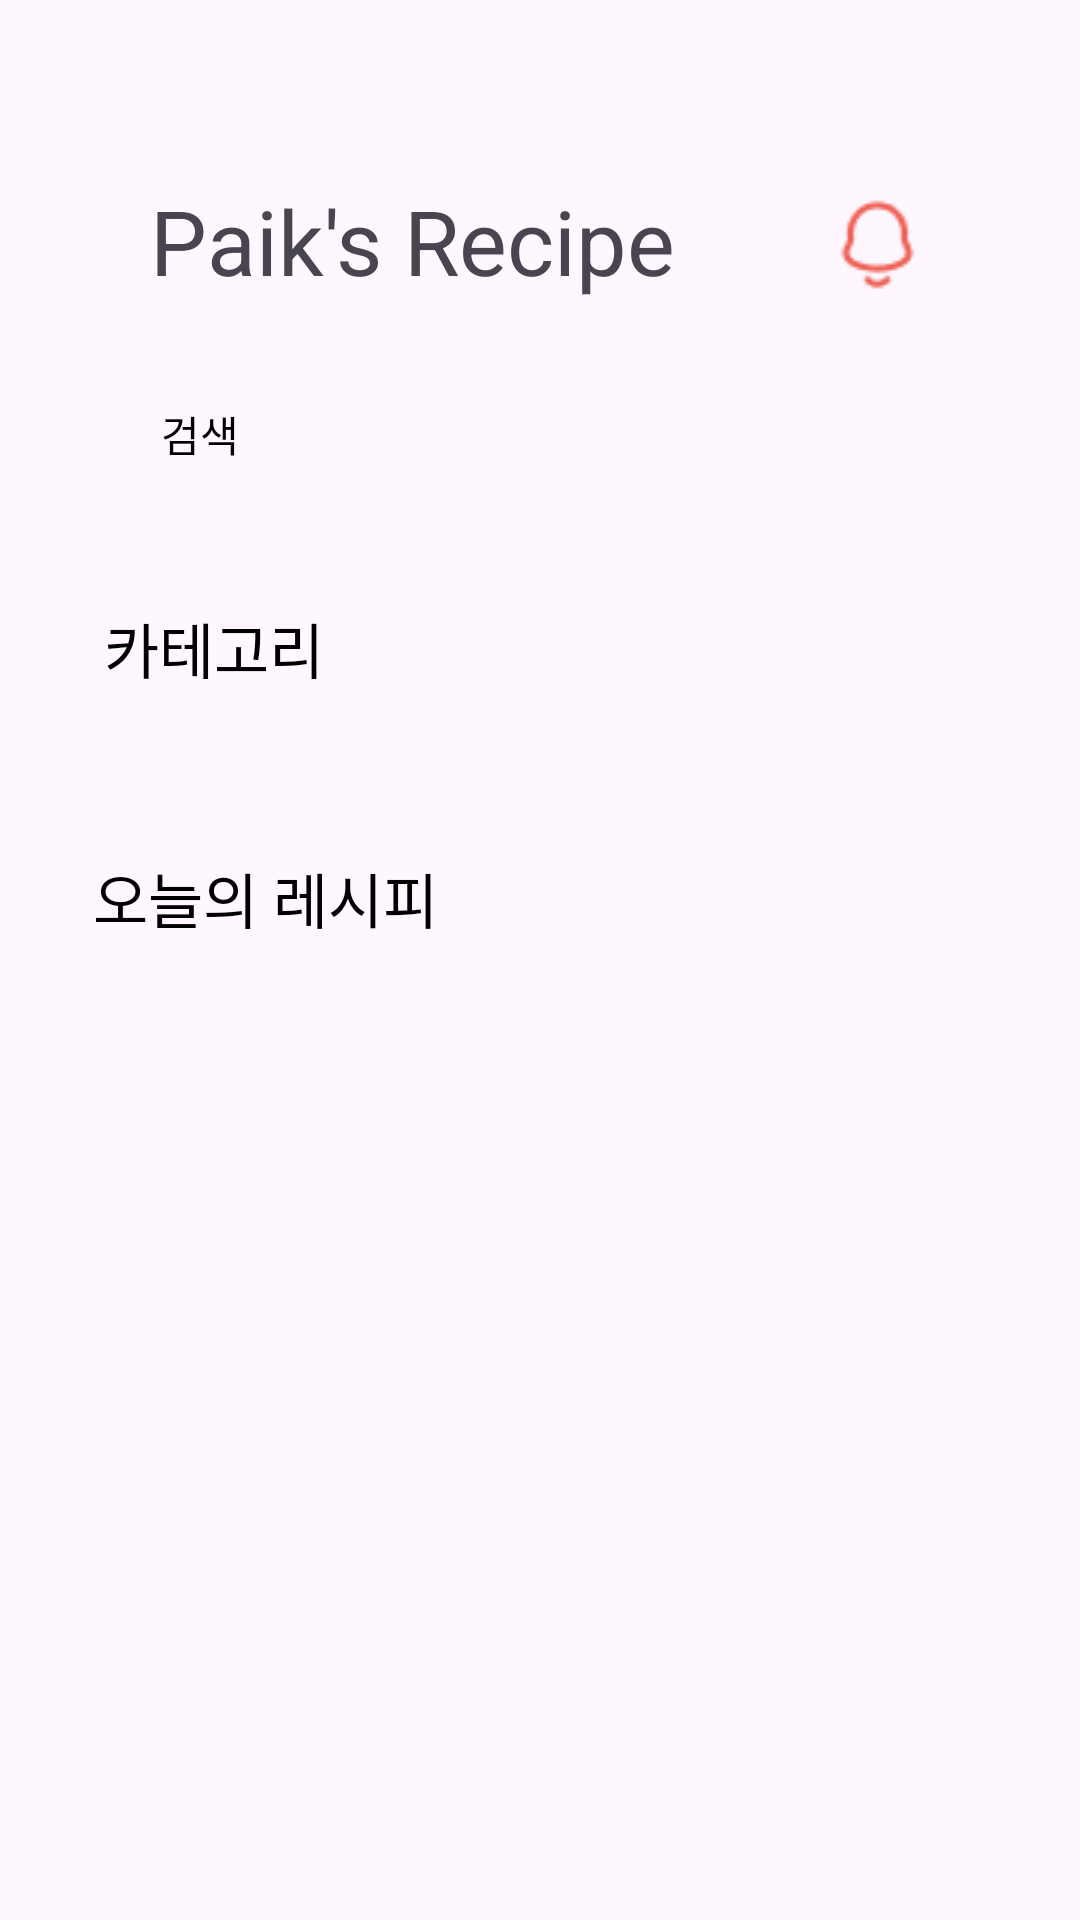

Icon bounding boxes for this 1080*1920 phone screenshot, format {"x1": x1, "y1": y1, "x2": x2, "y2": y2}:
notification: {"x1": 841, "y1": 200, "x2": 914, "y2": 289}
